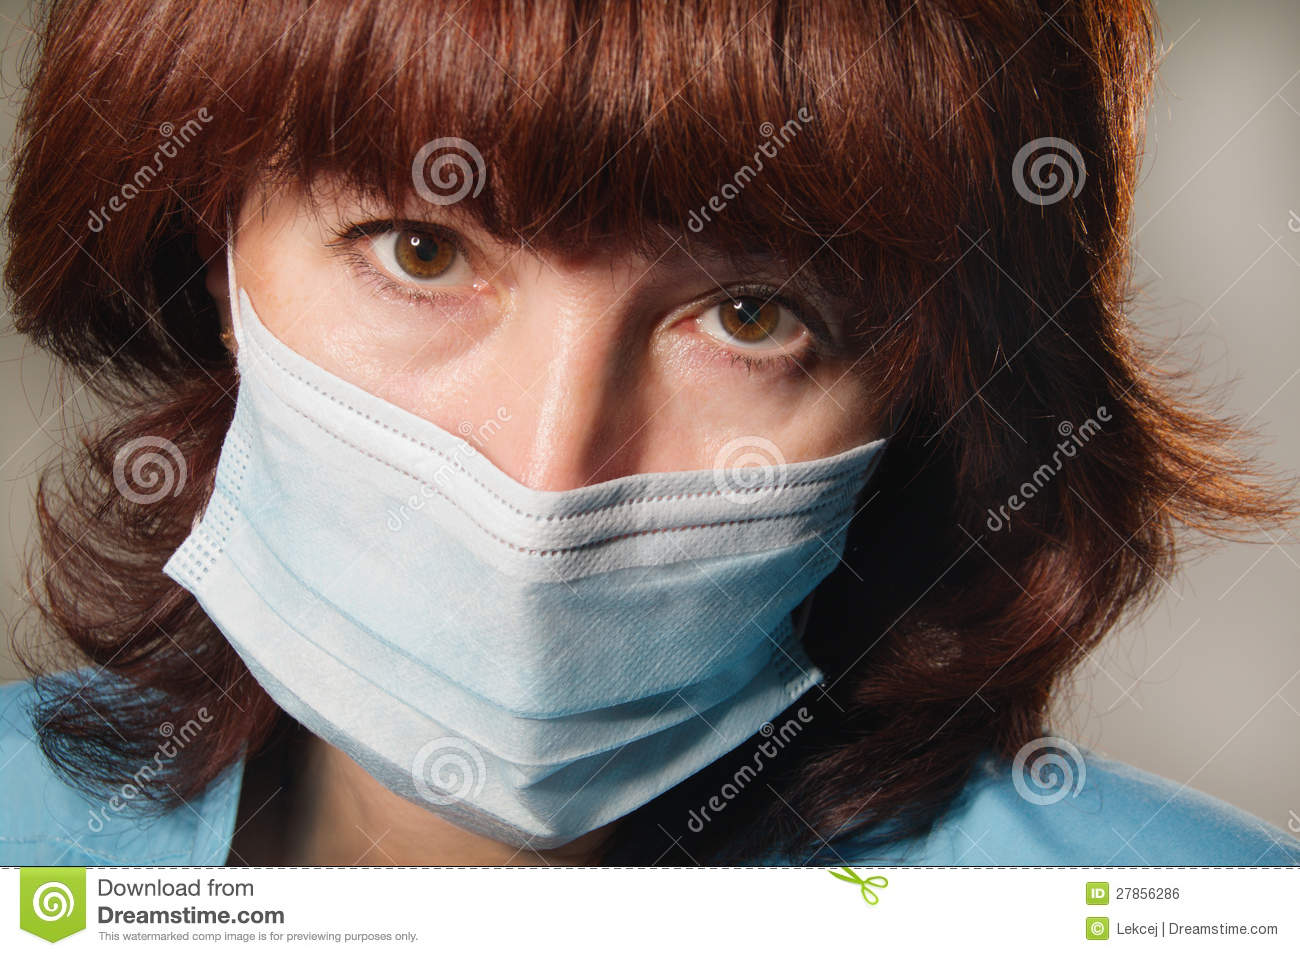mask: (160, 299, 886, 844)
